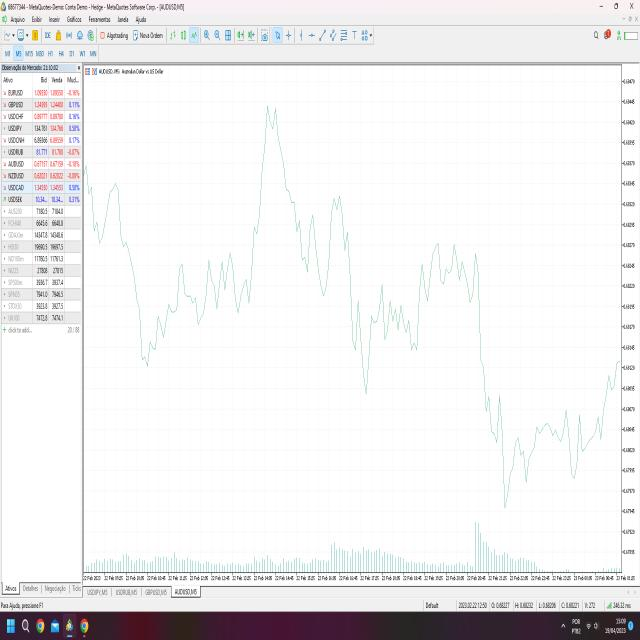bandeira_baixa: (471, 241, 505, 446)
oco_inv: (345, 270, 393, 404)
topo_duplo: (248, 93, 302, 256)
